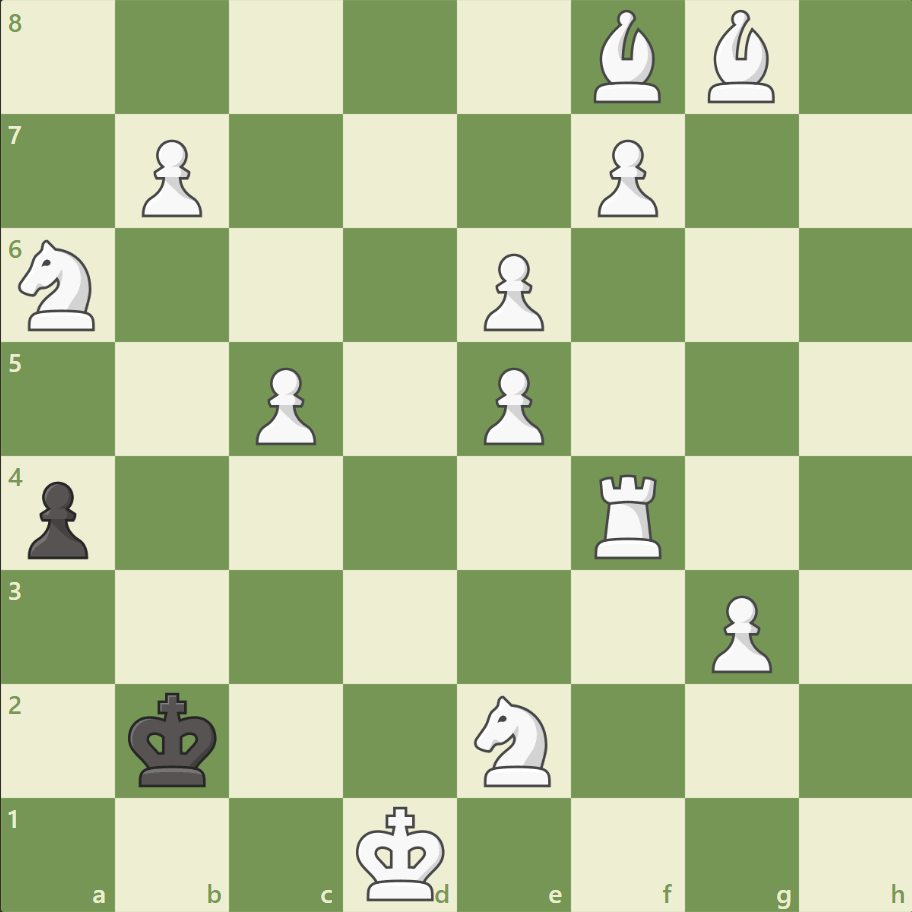B: (585, 6, 669, 109), (698, 6, 782, 109)
K: (351, 798, 451, 906)
N: (11, 234, 108, 337), (465, 688, 562, 791)
P: (133, 132, 208, 223), (474, 246, 549, 337), (247, 359, 322, 450), (474, 359, 549, 450), (701, 586, 776, 677), (588, 132, 662, 223)
R: (587, 466, 670, 563)
k: (124, 685, 224, 793)
p: (20, 473, 95, 564)
